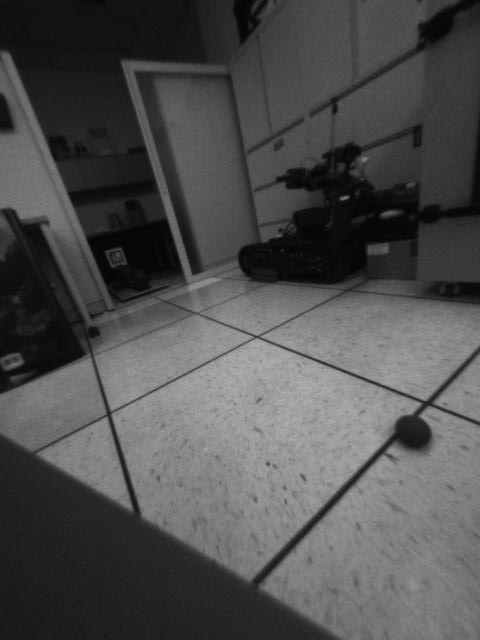dogtoy: (384, 406, 440, 454)
